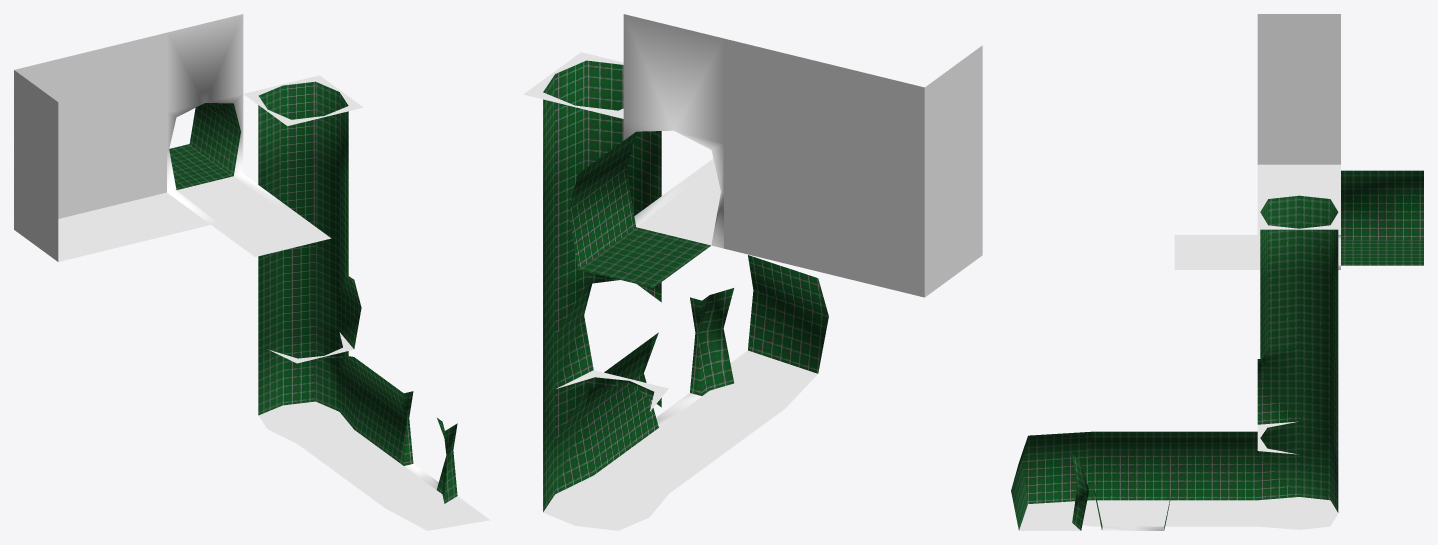
Rendered from tiles.glb.
3 views of the same model, side by side, from view 1: azimuth 30°, elevation 25°; view 2: azimuth 150°, elevation 25°; view 3: azimuth 270°, elevation 25° (orthographic). The views are drawn at different scales.
Parts seen in each view (by area): view 1: Cube.006, Cube.005, Cube.011, Cube.010, Cube.012, Cube.008, Cube.013, Cube.009, Cube.001, Cube.007, Cube.002; view 2: Cube.006, Cube.011, Cube.005, Cube.002, Cube.008, Cube.010, Cube.013, Cube.001, Cube.012, Cube.009, Cube.007; view 3: Cube.006, Cube.001, Cube.010, Cube.011, Cube.013, Cube.002, Cube.008, Cube.012, Cube.009, Cube.007.
Part boxes in pixels (x1,y1,x2,y2): Cube.006: [14, 51, 134, 261]; Cube.005: [90, 32, 210, 243]; Cube.011: [167, 14, 286, 224]; Cube.010: [258, 321, 361, 443]; Cube.012: [258, 242, 361, 363]; Cube.008: [244, 75, 363, 184]; Cube.013: [297, 357, 405, 475]; Cube.009: [258, 161, 348, 264]; Cube.001: [341, 389, 446, 508]; Cube.007: [211, 206, 331, 256]; Cube.002: [386, 423, 490, 530]; Cube.006: [824, 45, 982, 297]; Cube.011: [568, 14, 723, 287]; Cube.005: [724, 38, 824, 272]; Cube.002: [700, 255, 828, 408]; Cube.008: [523, 52, 661, 196]; Cube.010: [543, 377, 668, 530]; Cube.013: [584, 338, 726, 493]; Cube.001: [642, 295, 784, 451]; Cube.012: [543, 271, 668, 411]; Cube.009: [543, 165, 661, 301]; Cube.007: [682, 159, 720, 191]; Cube.006: [1257, 14, 1340, 194]; Cube.001: [1091, 431, 1174, 530]; Cube.010: [1257, 421, 1338, 529]; Cube.011: [1257, 170, 1423, 269]; Cube.013: [1174, 431, 1257, 526]; Cube.002: [1011, 431, 1091, 530]; Cube.008: [1257, 194, 1340, 286]; Cube.012: [1257, 346, 1338, 454]; Cube.009: [1260, 271, 1338, 361]; Cube.007: [1174, 235, 1257, 269].
Bounding box in the file's own units: 16 × 20 × 19.88.
2 materials, 1 textured.
